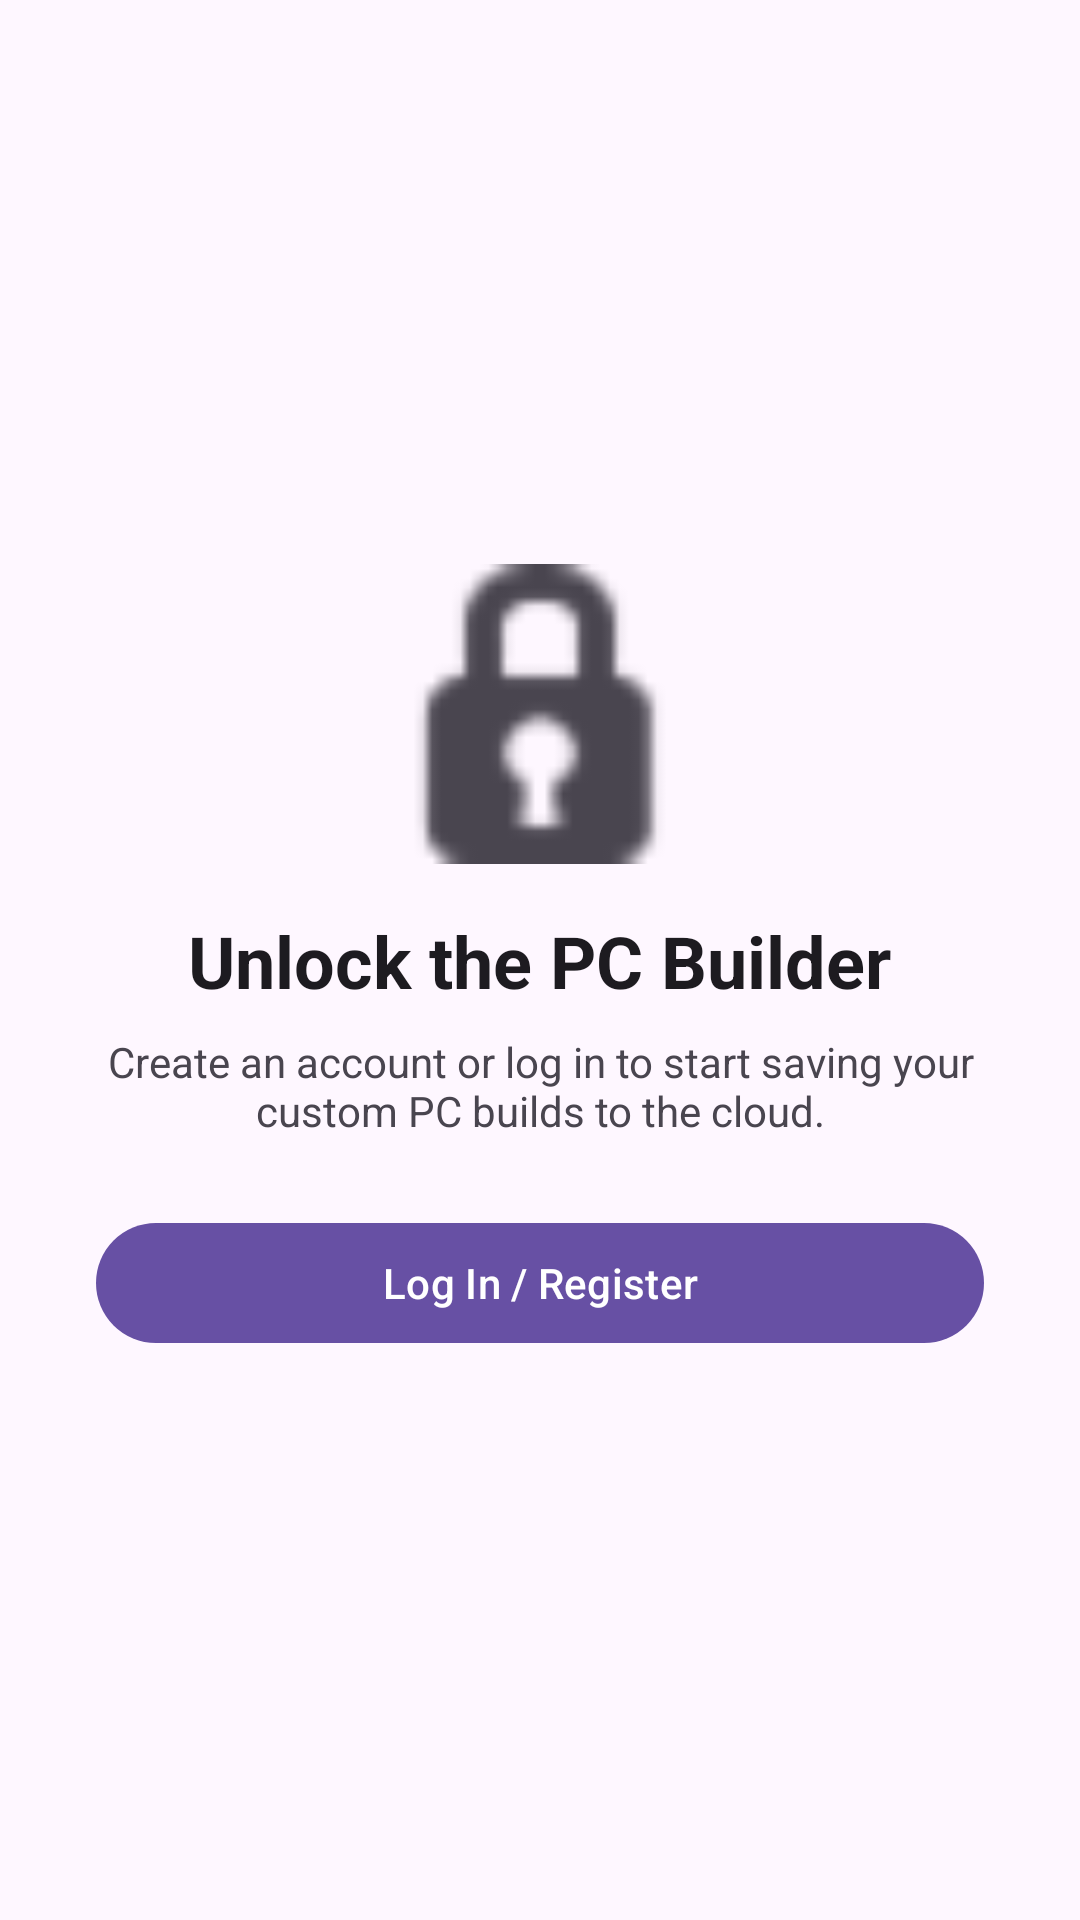

Icons on this 1080px×1920px Android screen, each with its box as {"left": x1, "top": y1, "right": x2, "bottom": y2}:
secure: {"left": 422, "top": 564, "right": 656, "bottom": 864}
